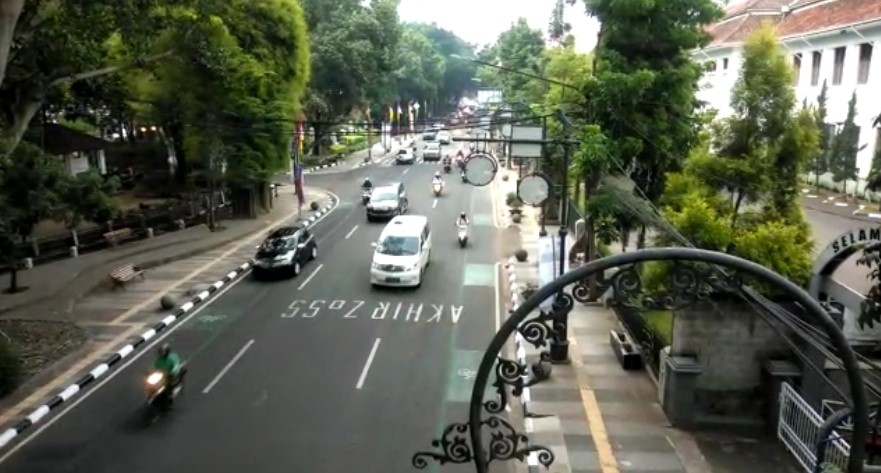mobil: (366, 214, 433, 292), (248, 223, 319, 281), (367, 183, 411, 218)
motor: (137, 340, 191, 425), (456, 214, 474, 248), (354, 175, 374, 202), (427, 172, 446, 197)
